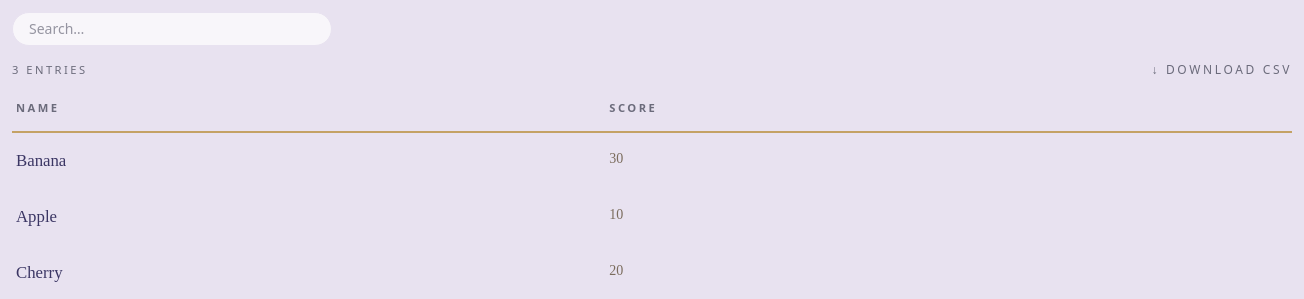
Test case: DataTable search + filters (opt-in) › search narrows rows and the count shows n of m
Type "ban" into the search field at (172, 29), box 12,12 -> 332,46
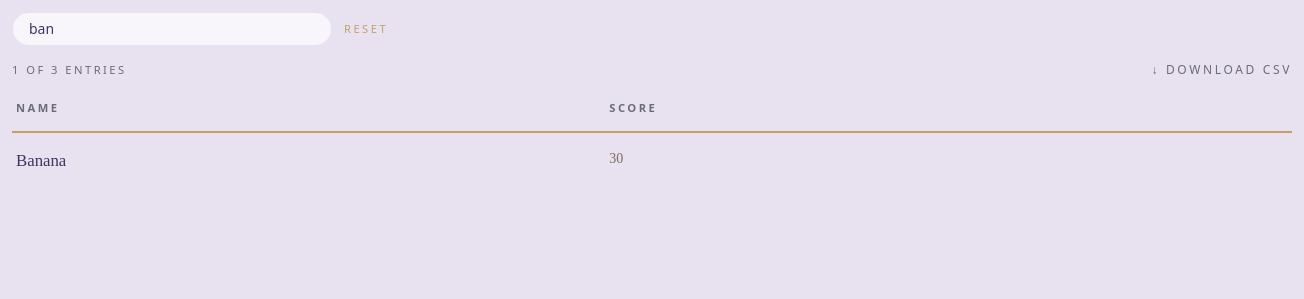
Expected: the text "Banana" is shown, 12,132 -> 593,188
Expected: the text "Apple" is gone
Expected: the text "1 of 3 entries" is shown, 12,62 -> 127,79
